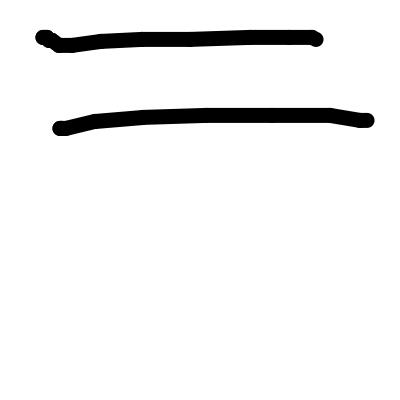eqv: (33, 22, 388, 135)
